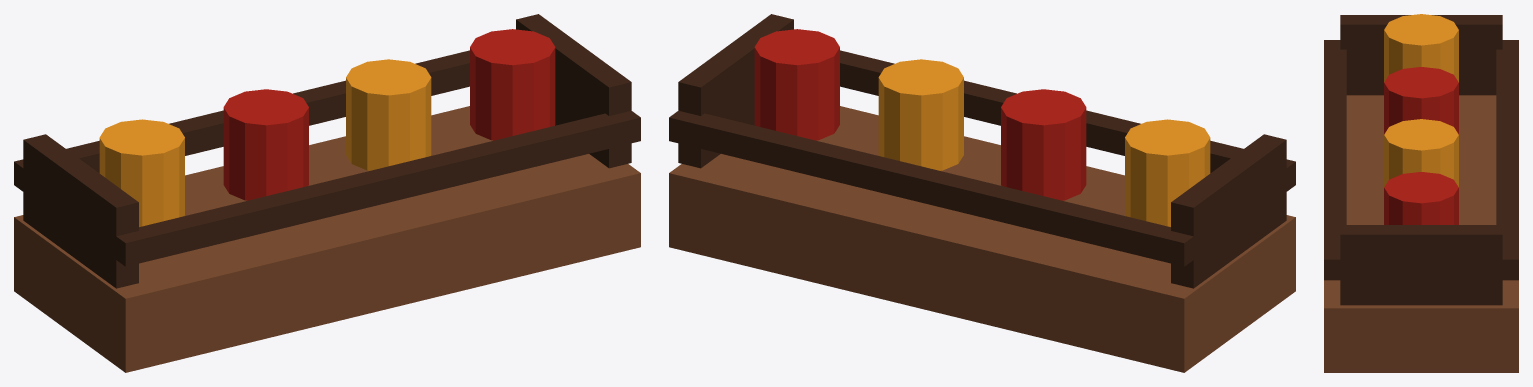
Rendered from FRUIT_TRAY_3.obj.
3 renders of one model, left to right at view 1: azimuth 30°, elevation 25°; view 2: azimuth 150°, elevation 25°; view 3: azimuth 270°, elevation 25°, orthographic. The views are drawn at different scales.
Visible parts, largest first — view 1: FRUIT_TRAY_3; view 2: FRUIT_TRAY_3; view 3: FRUIT_TRAY_3.
Boxes of the visible parts, left/top/right/bottom form: FRUIT_TRAY_3: left=14, top=14, right=640, bottom=372; FRUIT_TRAY_3: left=669, top=14, right=1295, bottom=372; FRUIT_TRAY_3: left=1324, top=14, right=1518, bottom=372.
Bounding box in the file's own units: 3.2 × 1.05 × 1.2.
